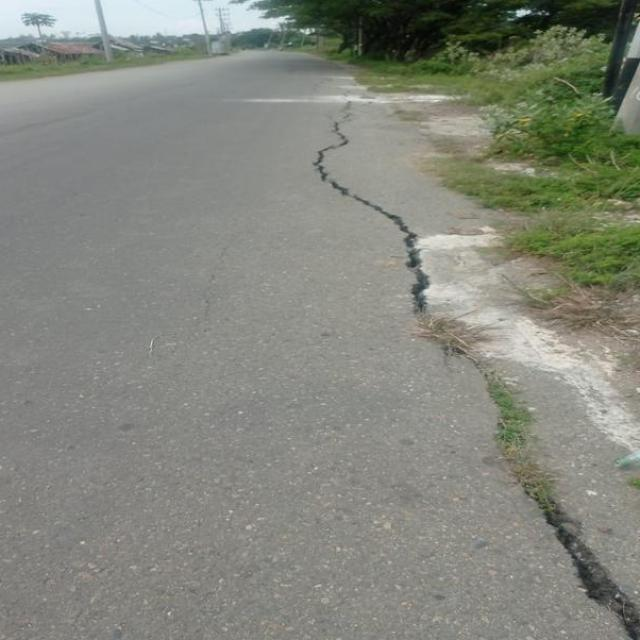Memanjang: (308, 102, 640, 640)
